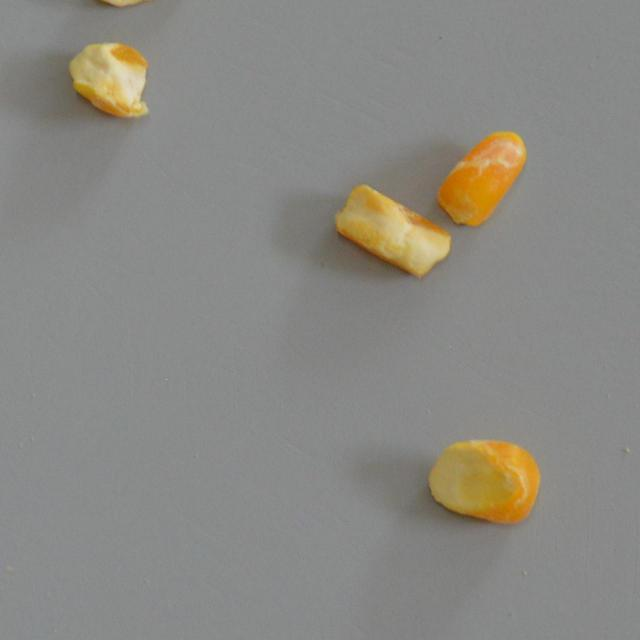pelicula: (424, 124, 536, 228), (331, 180, 450, 276), (424, 436, 540, 526), (66, 33, 150, 127), (86, 0, 206, 10)
